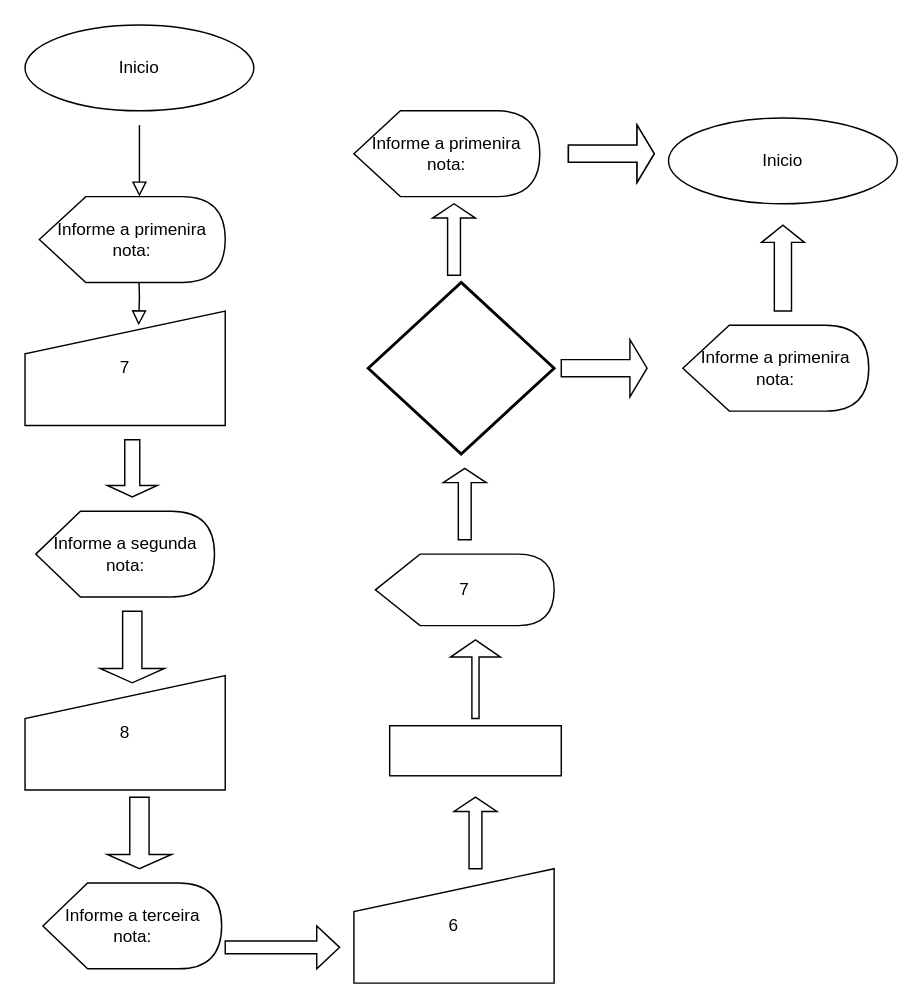
This 922x1008 diagram has some shape labels left out. Each missing label, with the centre of its shape:
"A média é maior ou igual 7" belongs at point (460, 367).
"média= (7+8+6)/3" belongs at point (474, 750).
